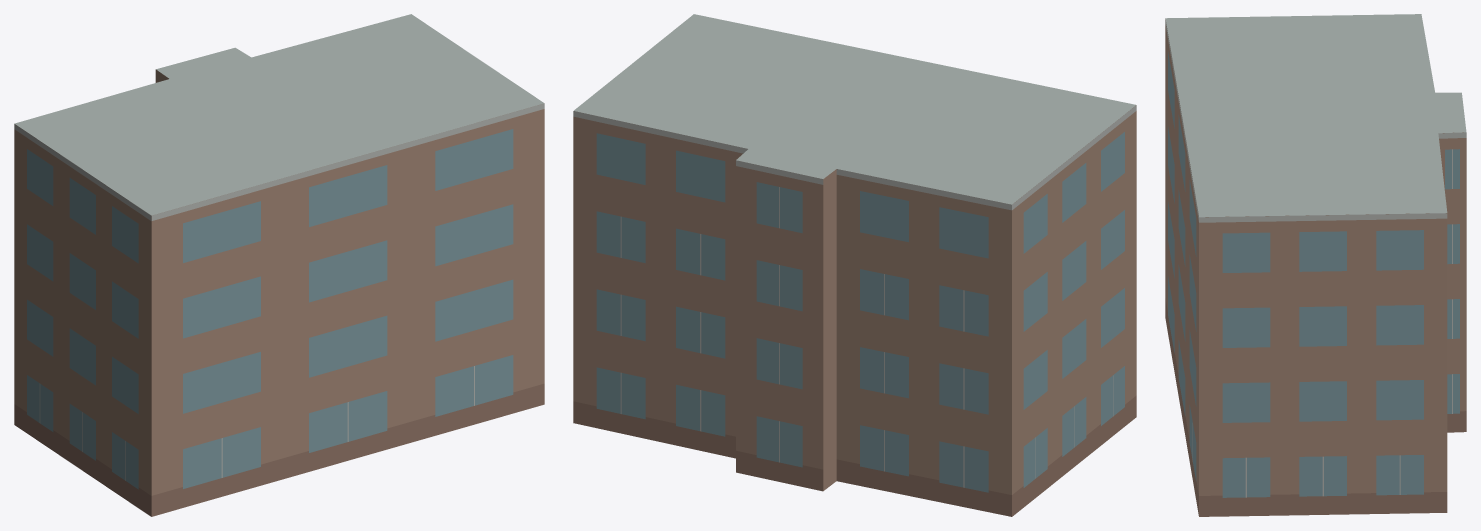
Rendered from survey-upis-32815451.glb.
3 renders of one model, left to right at view 1: azimuth 30°, elevation 25°; view 2: azimuth 150°, elevation 25°; view 3: azimuth 270°, elevation 25°, orthographic. The views are drawn at different scales.
Visible parts, largest first — view 1: survey-upis-32815451.tmp; view 2: survey-upis-32815451.tmp; view 3: survey-upis-32815451.tmp.
Part boxes in pixels (<box>): survey-upis-32815451.tmp: <box>14,14,544,516</box>; survey-upis-32815451.tmp: <box>573,14,1136,516</box>; survey-upis-32815451.tmp: <box>1165,14,1466,516</box>.
Bounding box in the file's own units: 19.21 × 13.2 × 12.03.
